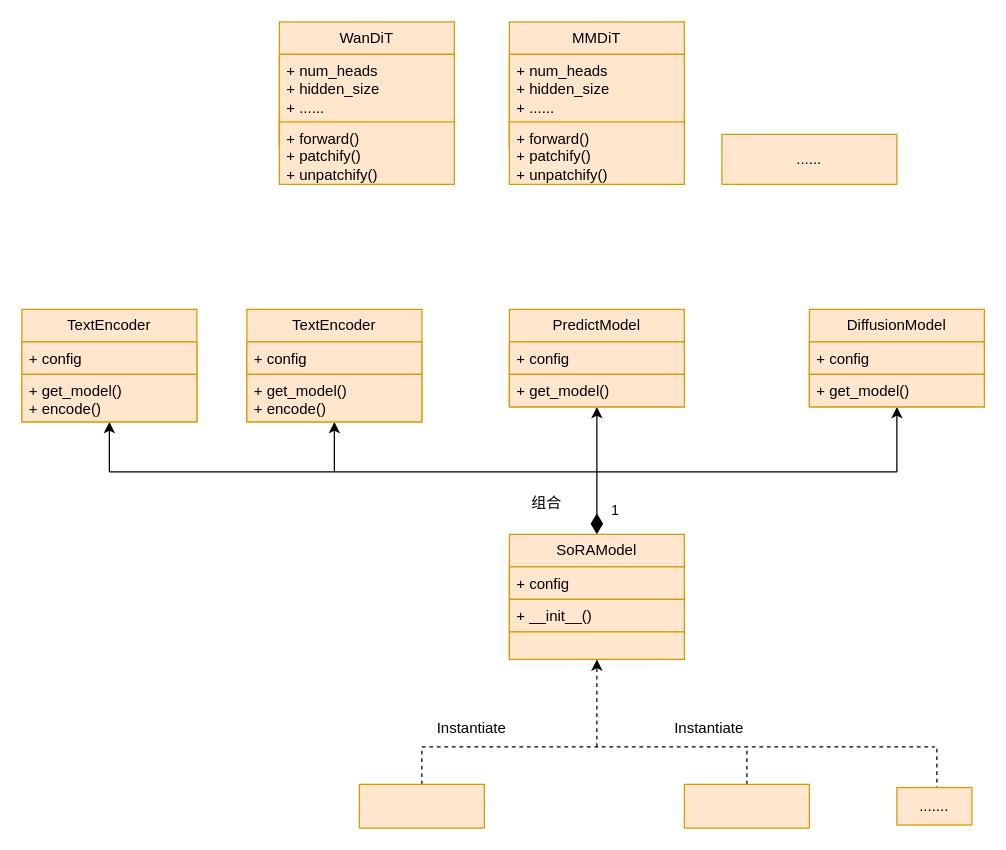
Some shapes in this 1006 by 850 pixel diagram are drawn without their labels. The shapes that lost their labels are listed below. From the top down, each one's centre as x and y in pixels, then its label:
point (596, 645): + forward()
point (421, 805): Wan2.2
point (746, 805): HunyuanVideo
